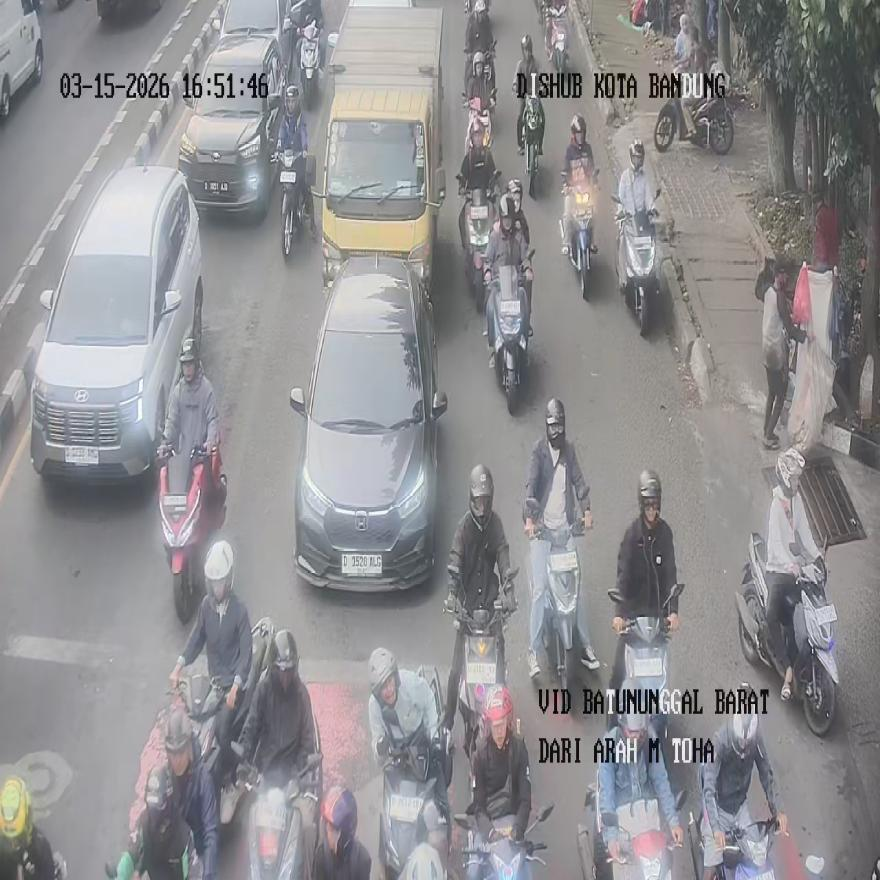Mobil: (290, 255, 446, 590)
Truk ringan: (310, 5, 444, 304)
